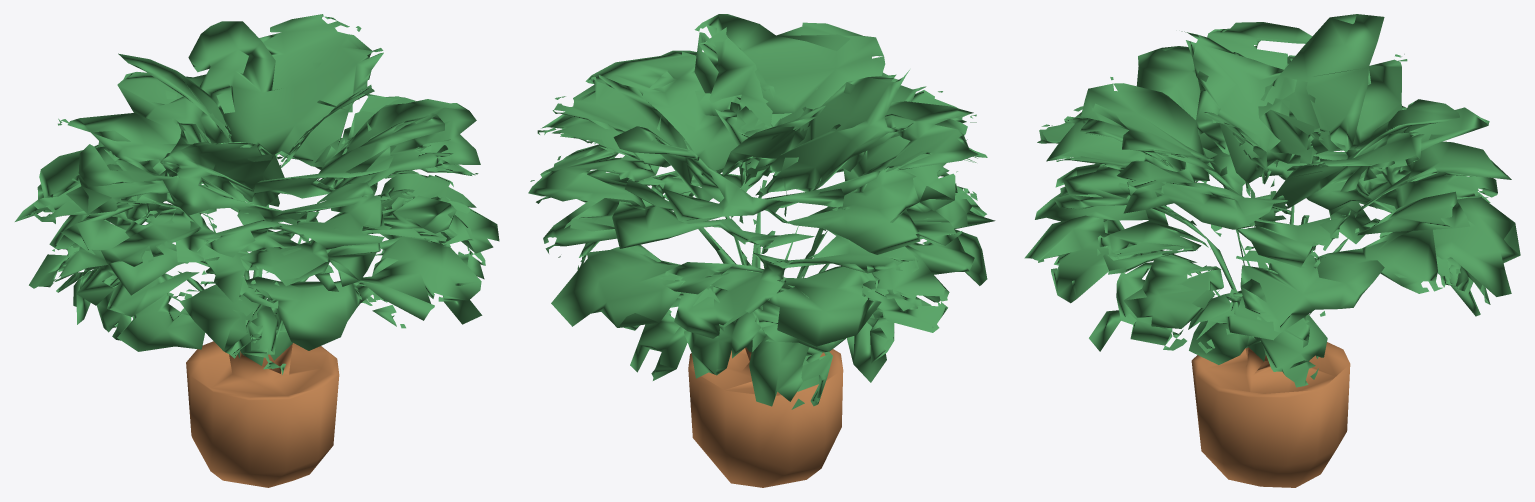
Rendered from plante_5.glb.
The picture shows the model from 3 angles, left to right: view 1: azimuth 30°, elevation 25°; view 2: azimuth 150°, elevation 25°; view 3: azimuth 270°, elevation 25°; orthographic projection. The views are drawn at different scales.
Visible parts, largest first — view 1: Mesh1; view 2: Mesh1; view 3: Mesh1.
Boxes of the visible parts, left/top/right/bottom form: Mesh1: left=15, top=14, right=499, bottom=487; Mesh1: left=528, top=14, right=995, bottom=487; Mesh1: left=1024, top=14, right=1520, bottom=487.
Bounding box in the file's own units: 1.86 × 1.71 × 1.87.
